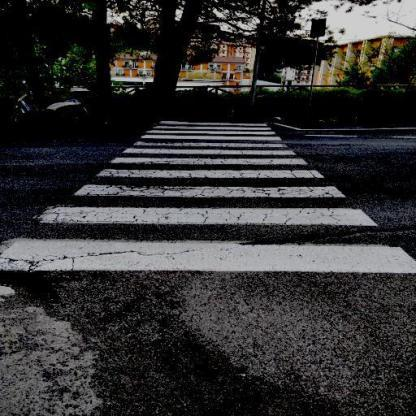crosswalk: (26, 182, 385, 232), (107, 146, 314, 168), (140, 124, 282, 136)
